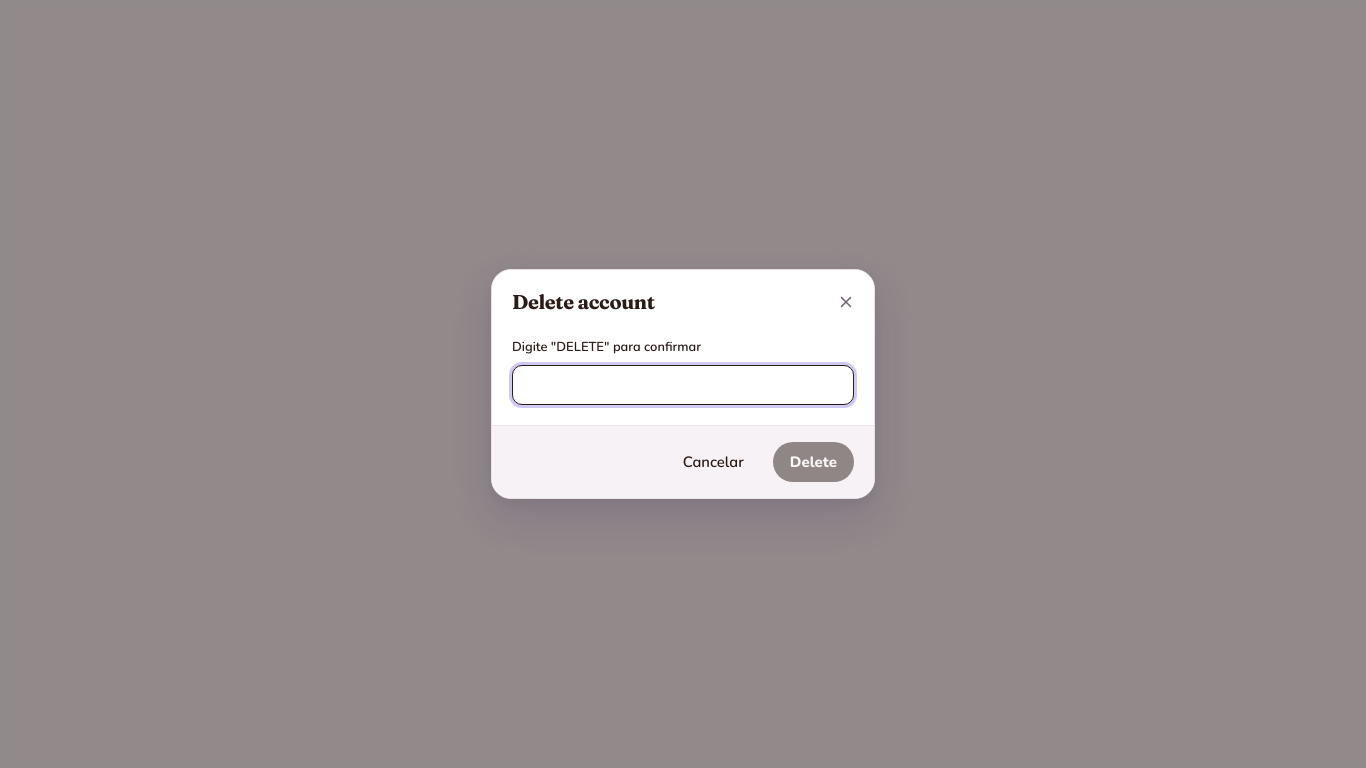
Test case: ConfirmDialog › requires typed confirmation before enabling the confirm button
Expected: the button "Delete" is disabled, [773,442,854,482]
Type "DELETE" into the field labelled "Digite \"DELETE\" para confirmar" at point(683, 385), box [525,366,841,404]
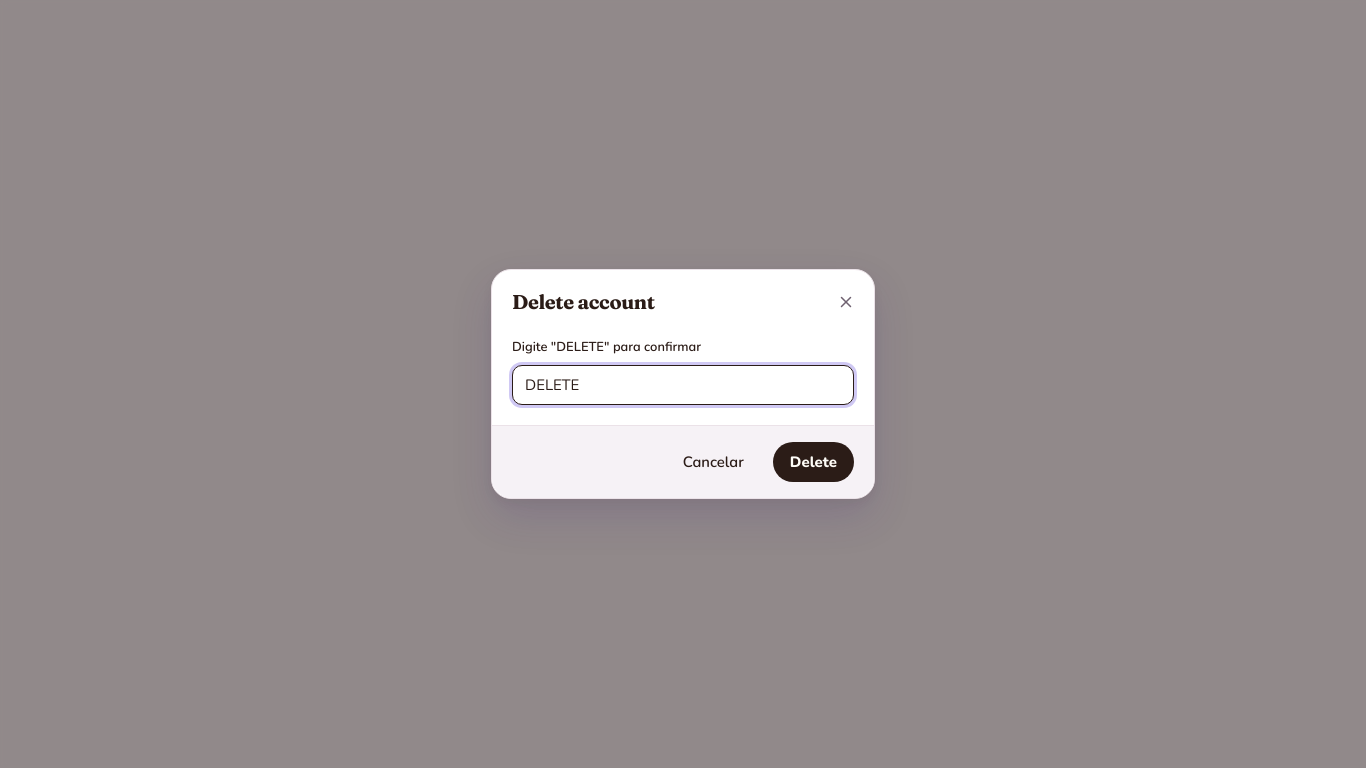
Now the button "Delete" is enabled, box [773,442,854,482]
